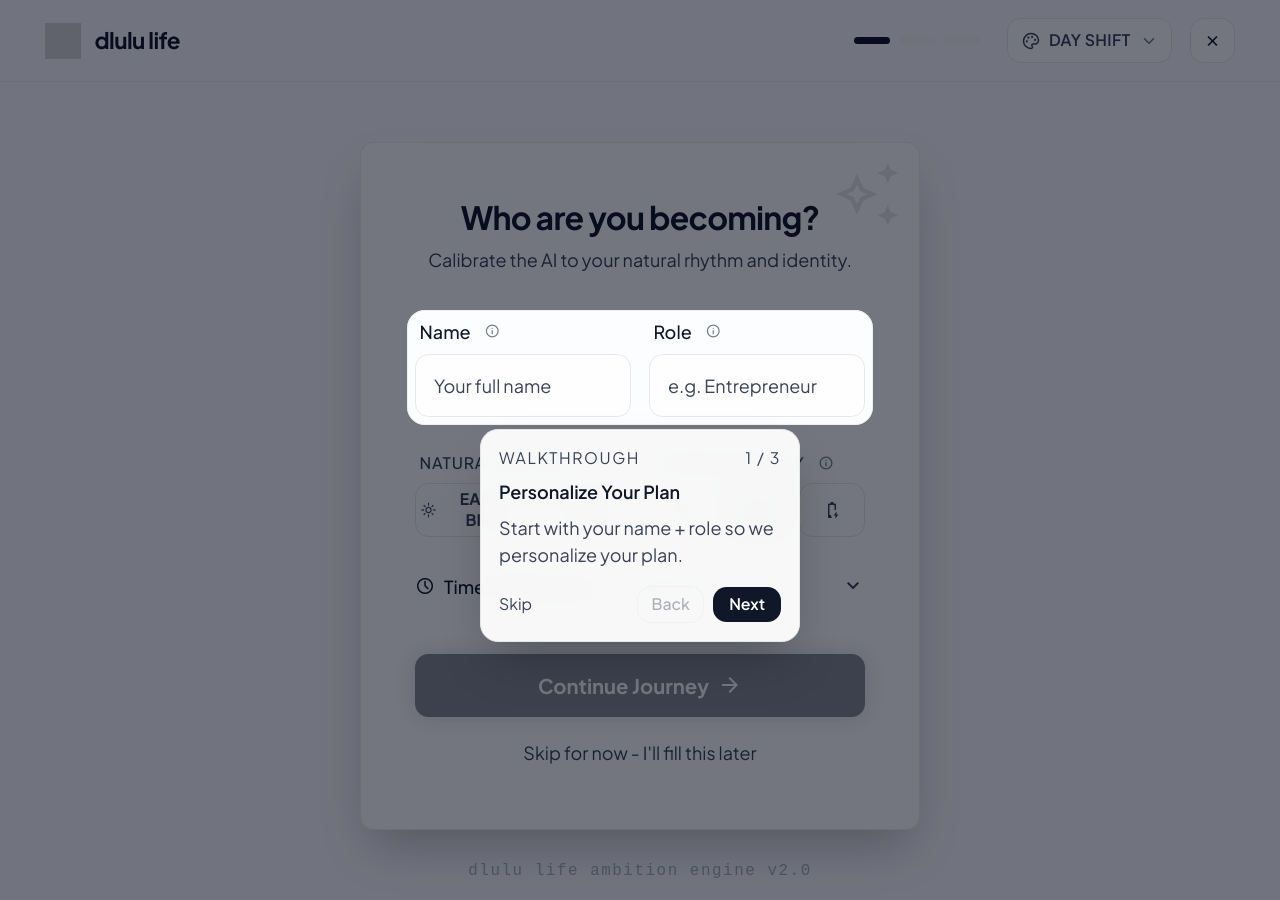
Test: Onboarding › prefills ambition input when initialAmbition is provided
The image size is (1280, 900).
Type "Jane Doe" into the field with placeholder "Your full name" at [523, 385], box [415,354,631,417]
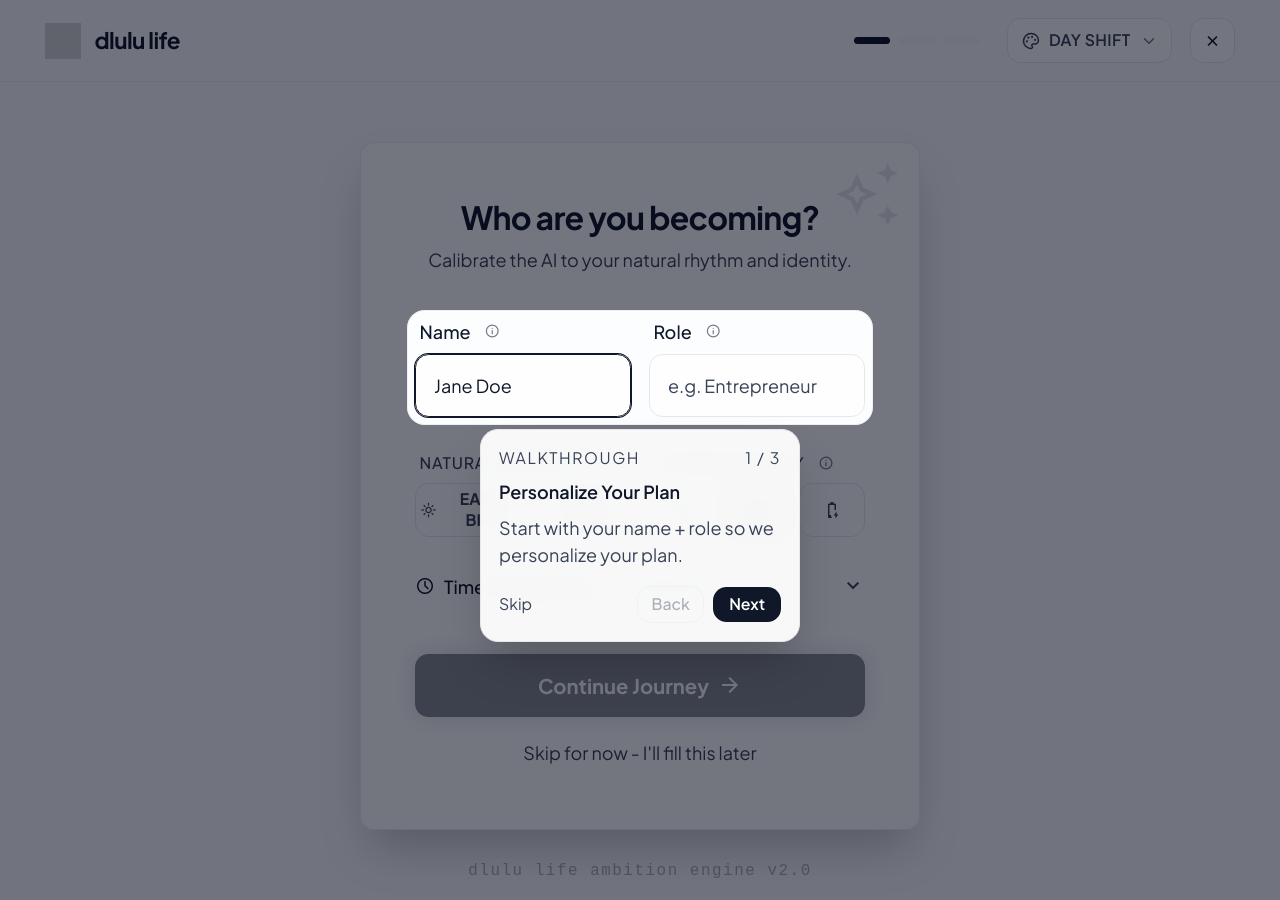
Type "Founder" into the field with placeholder "e.g. Entrepreneur" at [757, 385], box [649,354,865,417]
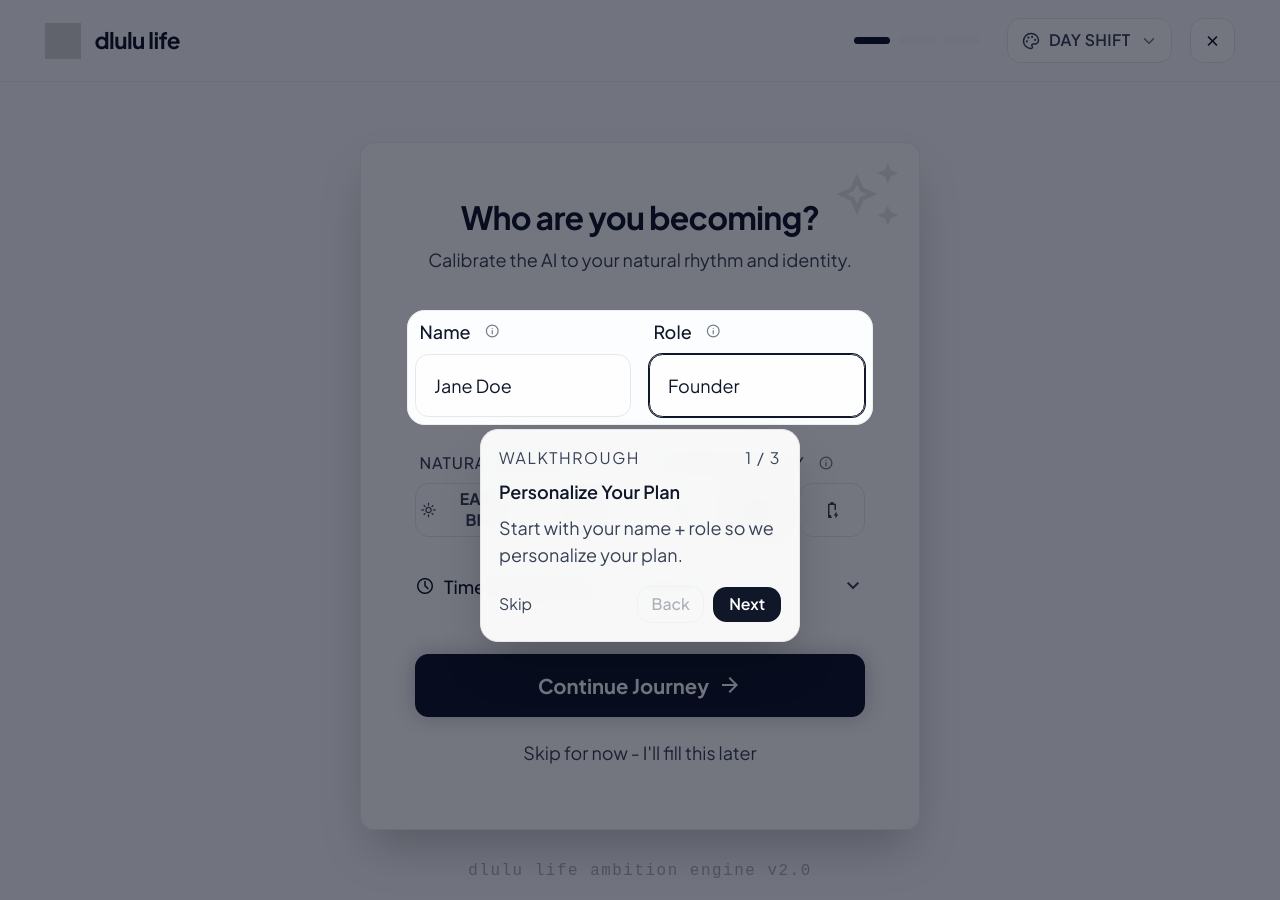
Click the button "Continue Journey" at [640, 685], box [415,654,865,717]
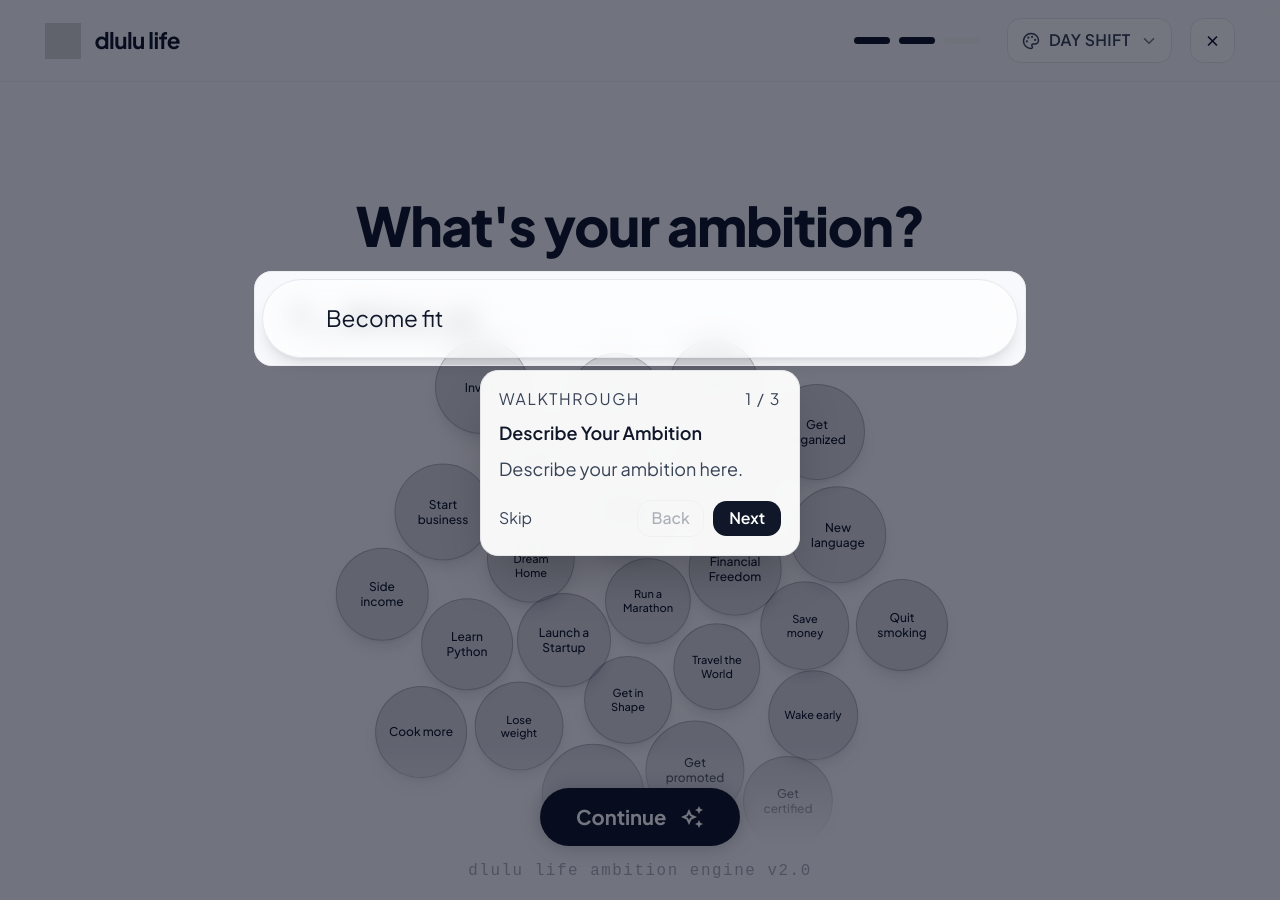
Check: the field with placeholder "Describe your ideal reality" holds "Become fit", box [262,279,1018,358]
